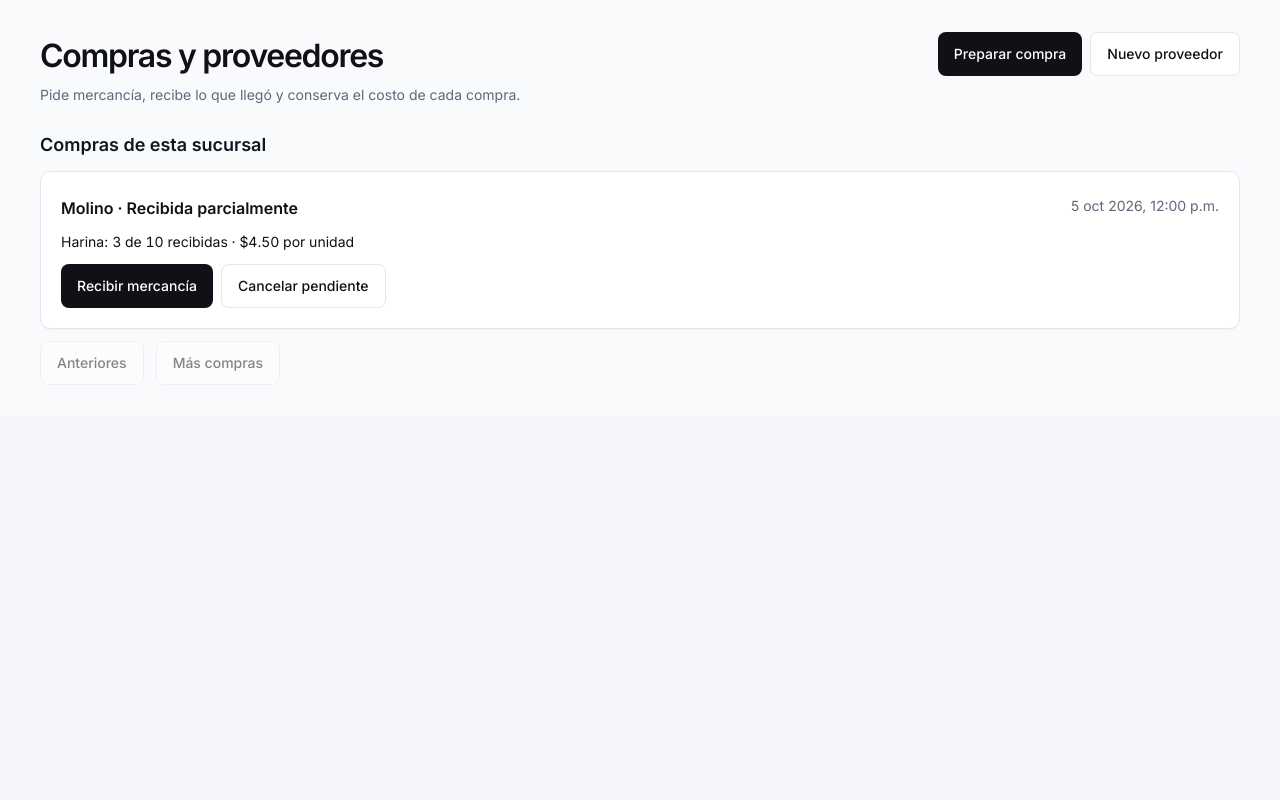
Test: returns to the purchase with the saved supplier selected and the full draft preserved
The image size is (1280, 800).
Expected: the element named "Compra de Molino ·" is shown, x1=40 y1=171 x2=1240 y2=329
Step 1. Click the button "Preparar compra" → {"x": 1010, "y": 54}, box x1=938 y1=32 x2=1082 y2=76
(page scrolled)
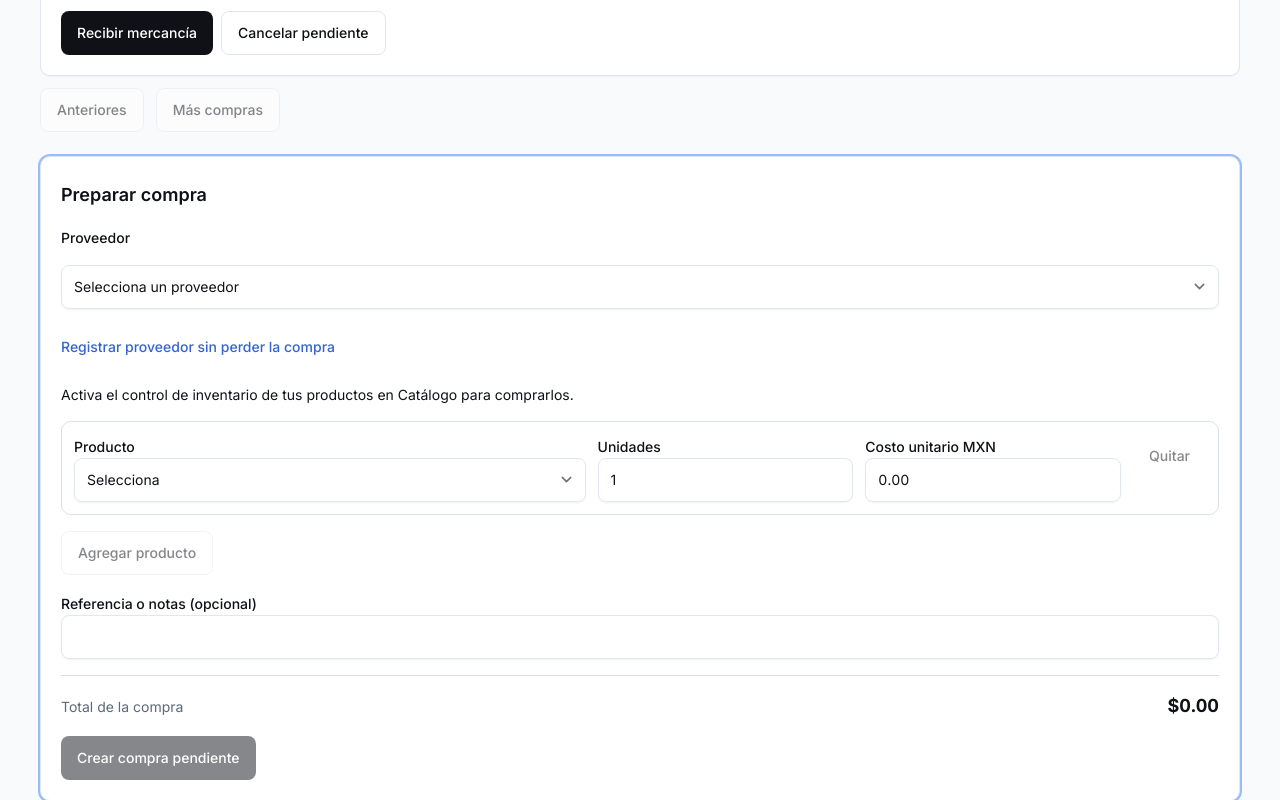
Step 2. Replace the text in the number field labelled "Unidades" with "8" → {"x": 725, "y": 480}, box x1=598 y1=458 x2=853 y2=502
Step 3. Replace the text in the number field labelled "Costo unitario MXN" with "25.50" → {"x": 993, "y": 480}, box x1=865 y1=458 x2=1121 y2=502
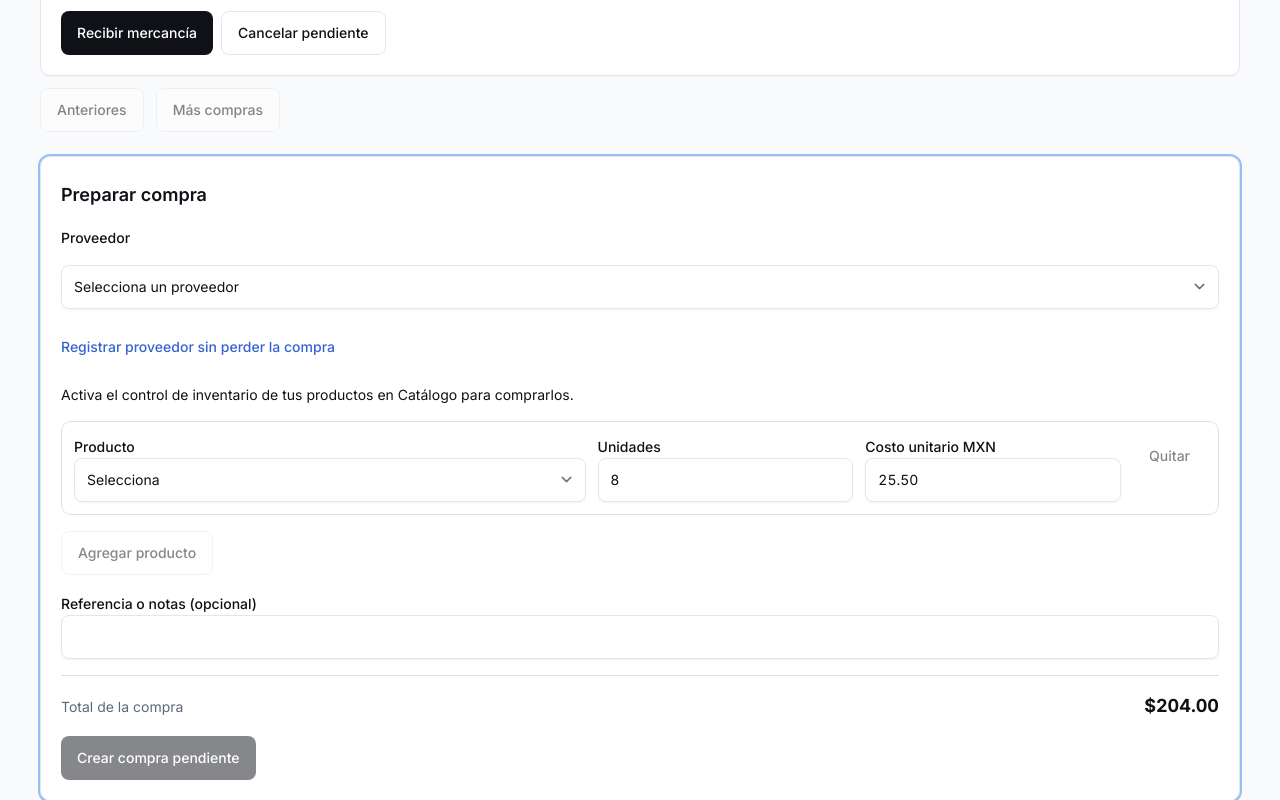
Step 4. Type "Entrega el viernes" into the field labelled "Referencia o notas (opcional)" → {"x": 640, "y": 637}, box x1=61 y1=615 x2=1219 y2=659
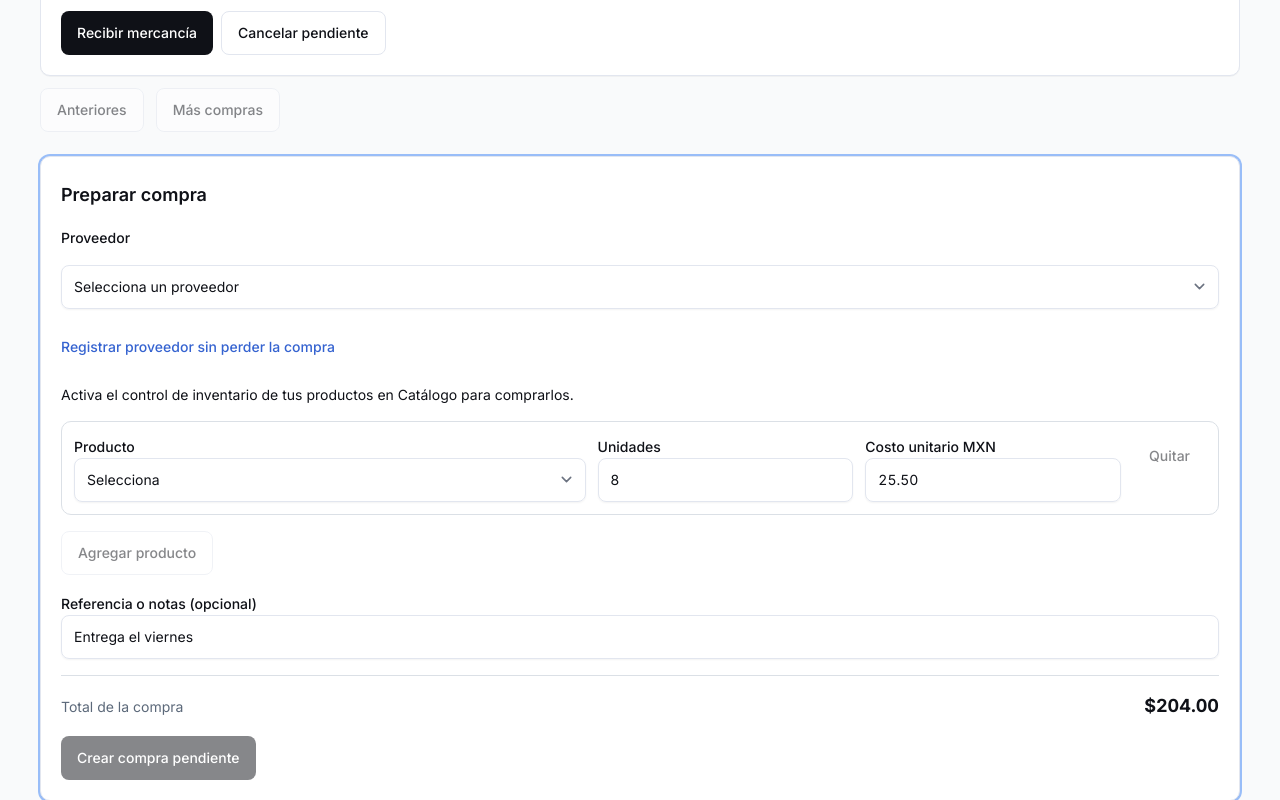
Step 5. Click the button "Registrar proveedor sin perder la compra" → {"x": 198, "y": 347}, box x1=61 y1=325 x2=335 y2=369
(page scrolled)
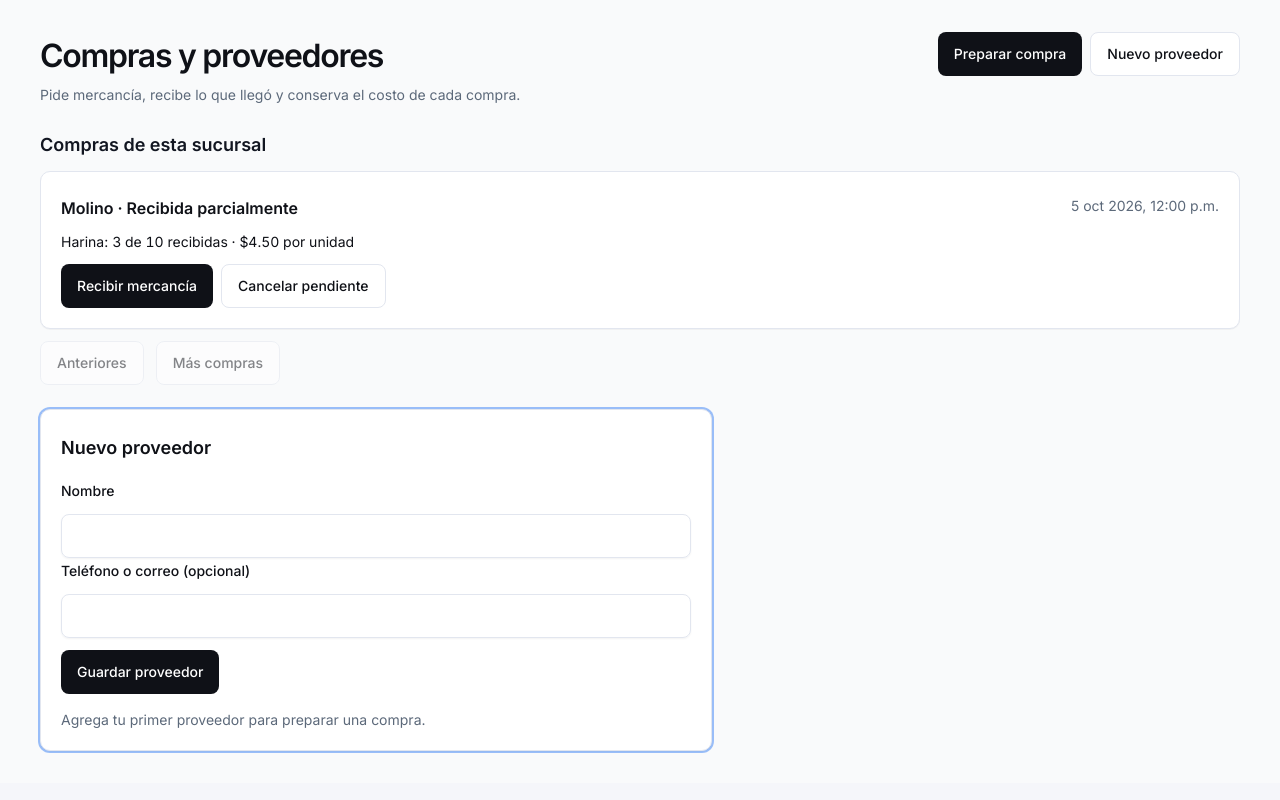
Step 6. Type "Molino del Centro" into the field labelled "Nombre" → {"x": 376, "y": 536}, box x1=61 y1=514 x2=691 y2=558
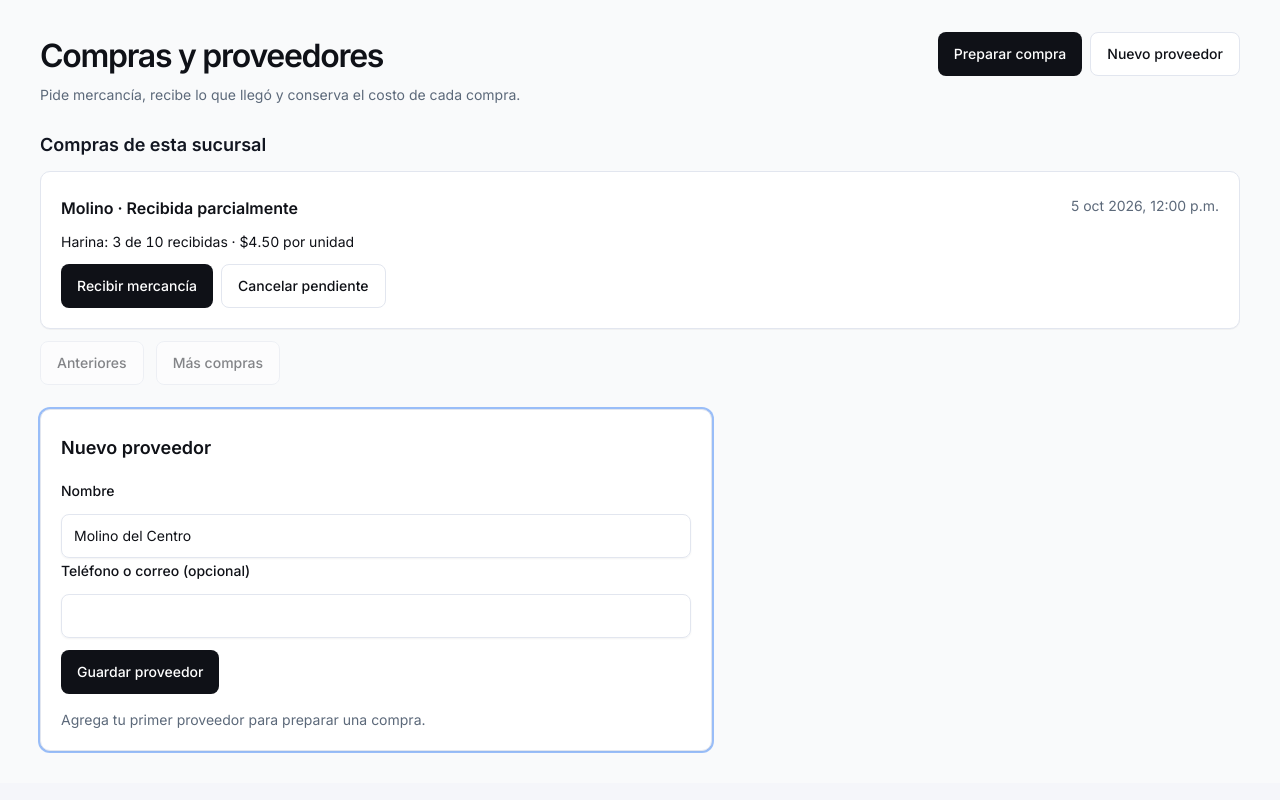
Step 7. Click the button "Guardar proveedor" → {"x": 140, "y": 672}, box x1=61 y1=650 x2=220 y2=694
(page scrolled)
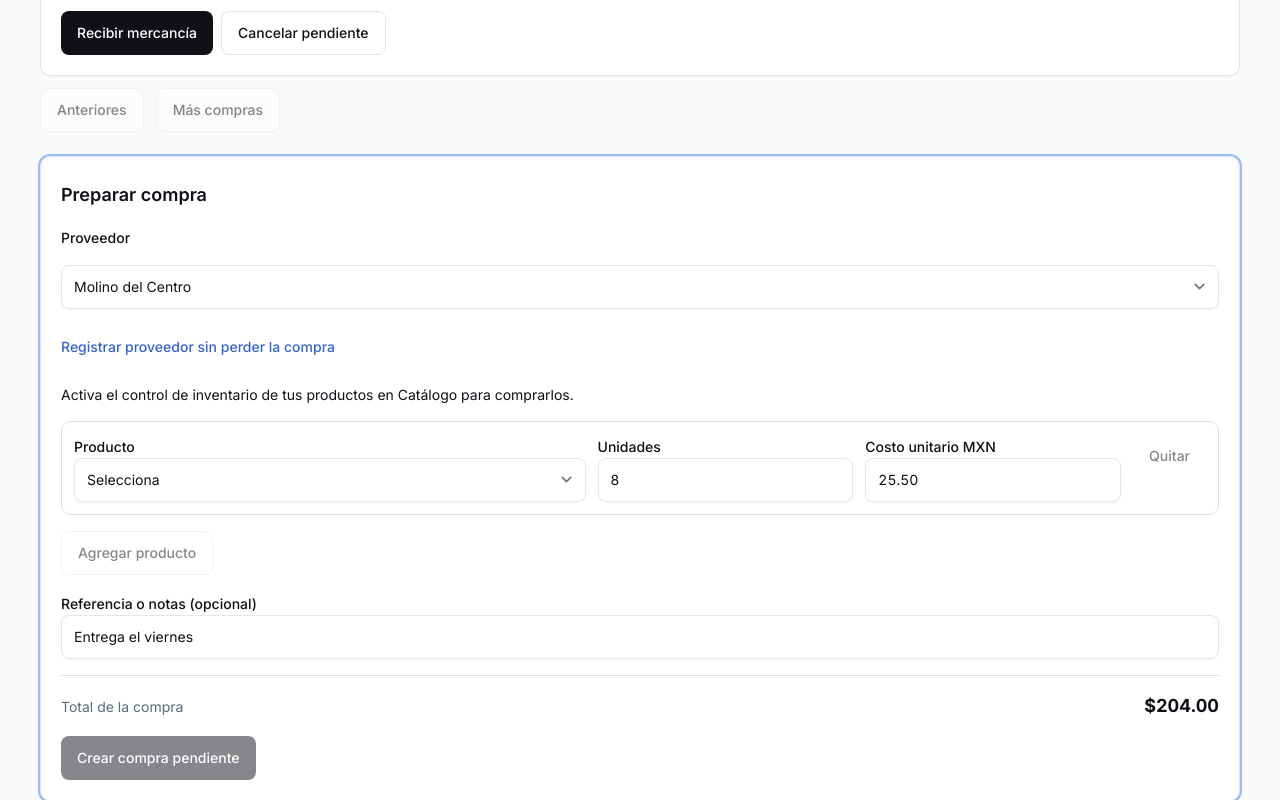
Now the dropdown labelled "Proveedor" shows "Molino del Centro", box x1=61 y1=265 x2=1219 y2=309
Now the number field labelled "Unidades" holds "8", box x1=598 y1=458 x2=853 y2=502
Now the number field labelled "Costo unitario MXN" holds "25.5", box x1=865 y1=458 x2=1121 y2=502
